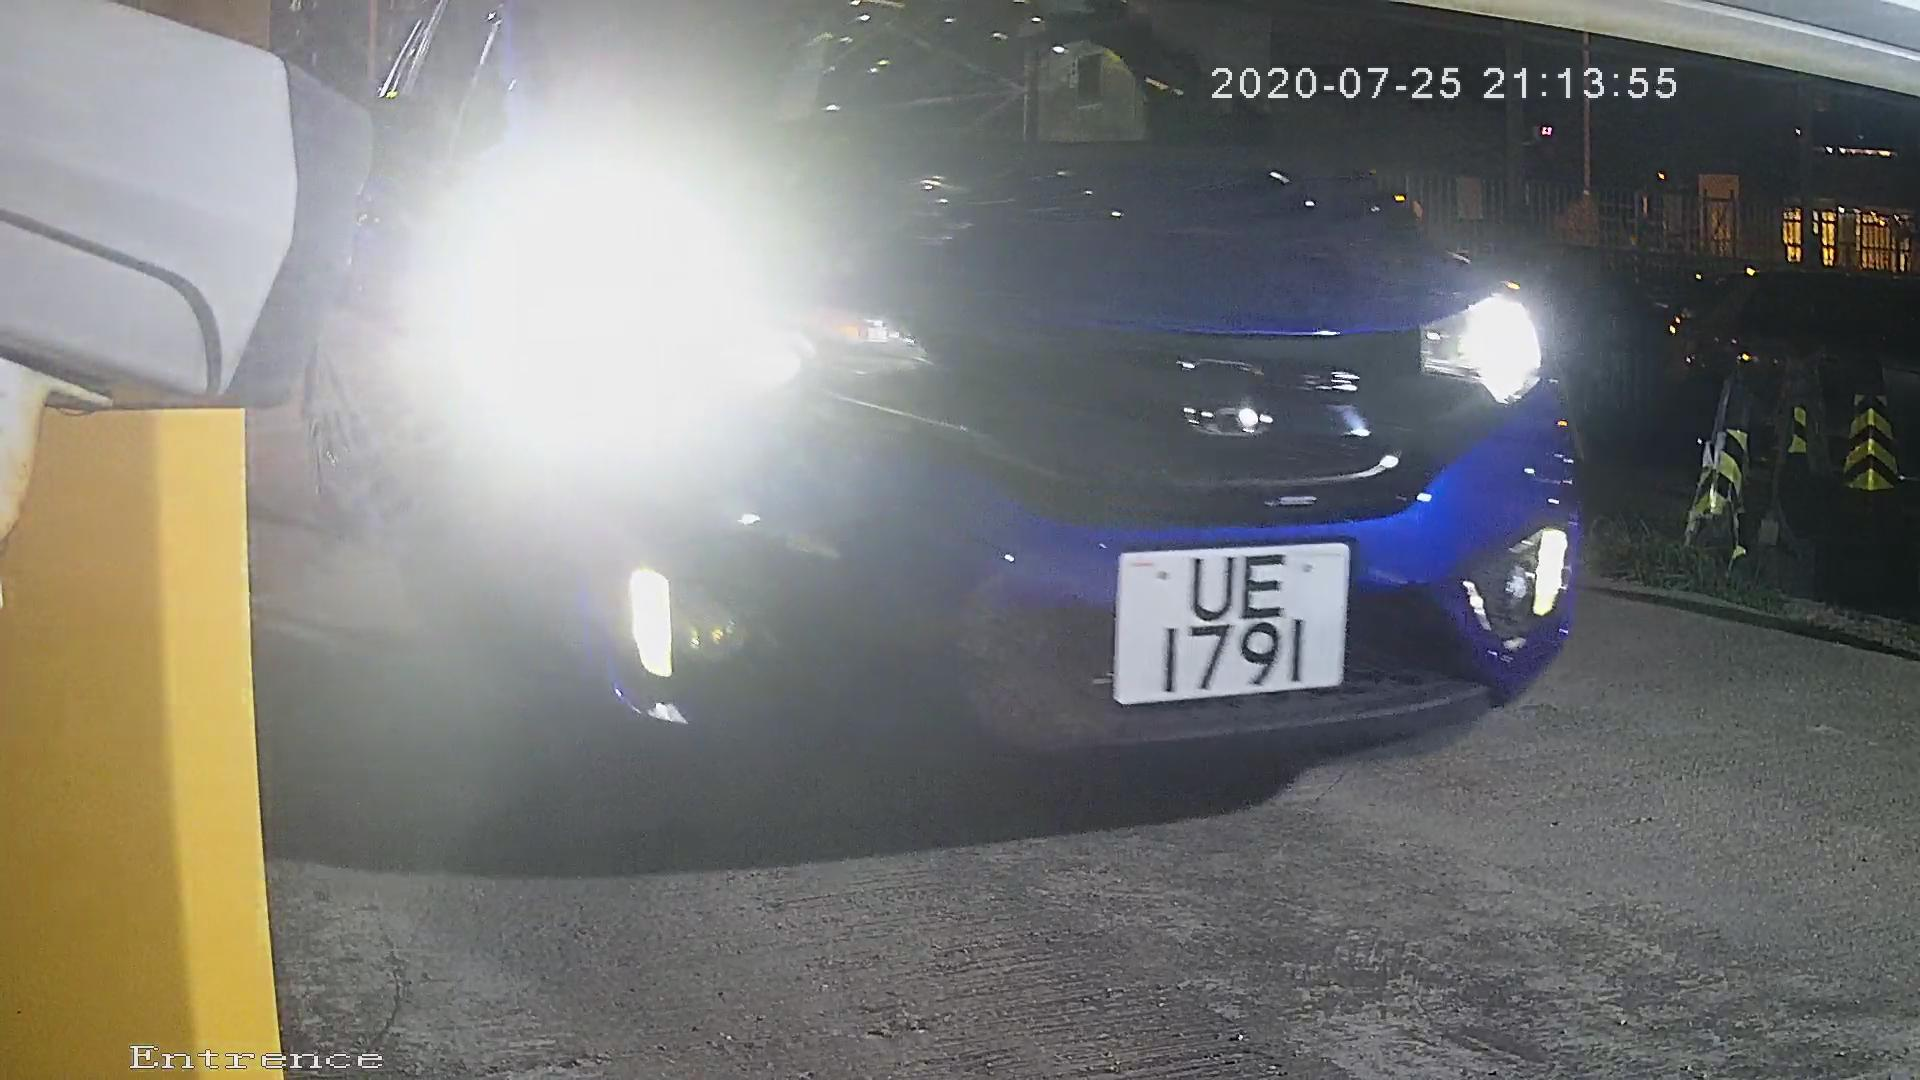License Plate: (1072, 531, 1372, 719)
